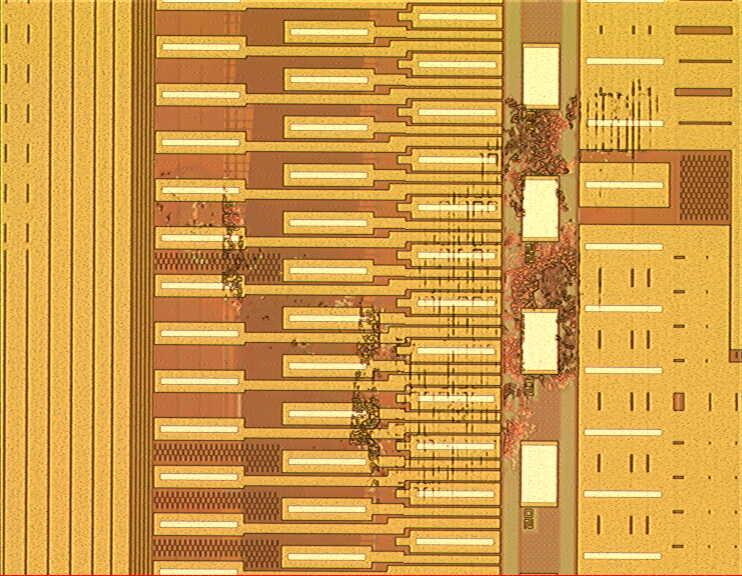PO CONTAMINATION: (146, 81, 665, 507)
